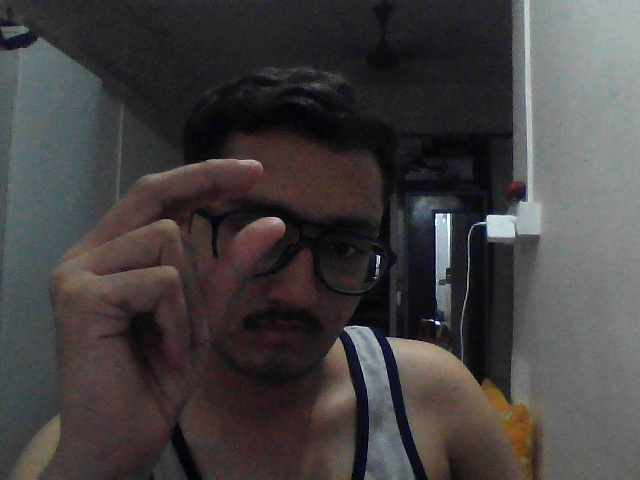No: (32, 146, 297, 430)
